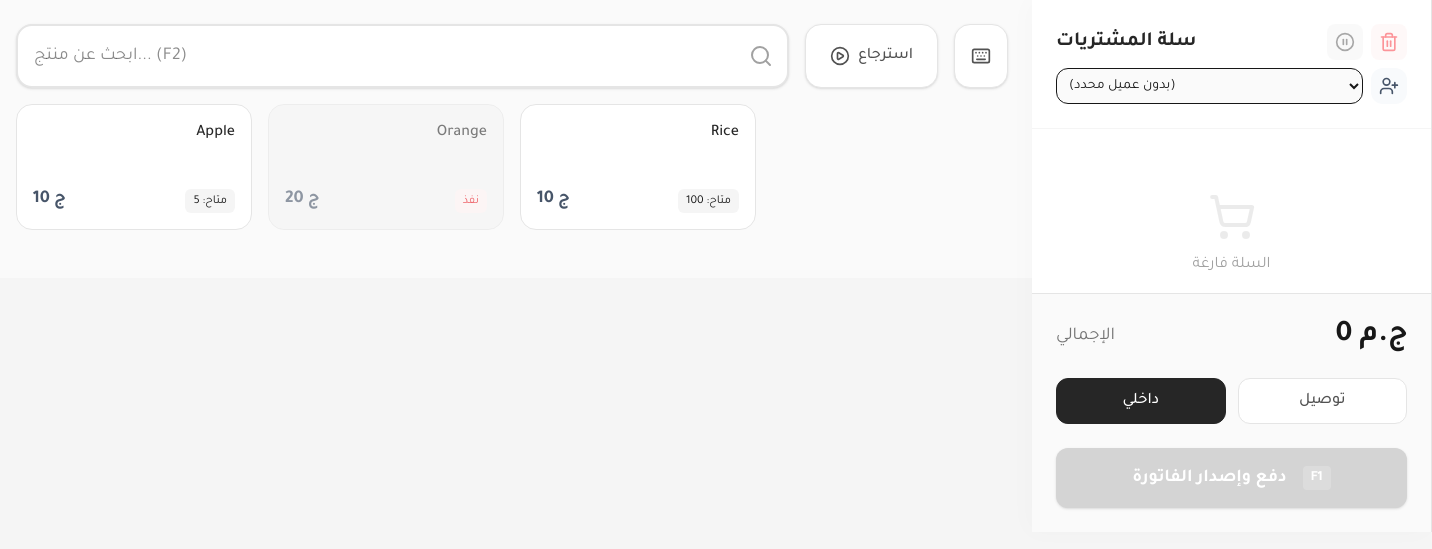
POS cart › increments quantity and updates the line + cart total when clicking the same product again
The width and height of the screenshot is (1432, 549).
Click the button "Apple 10 ج متاح: 5": (134, 167) [16, 104, 252, 230]
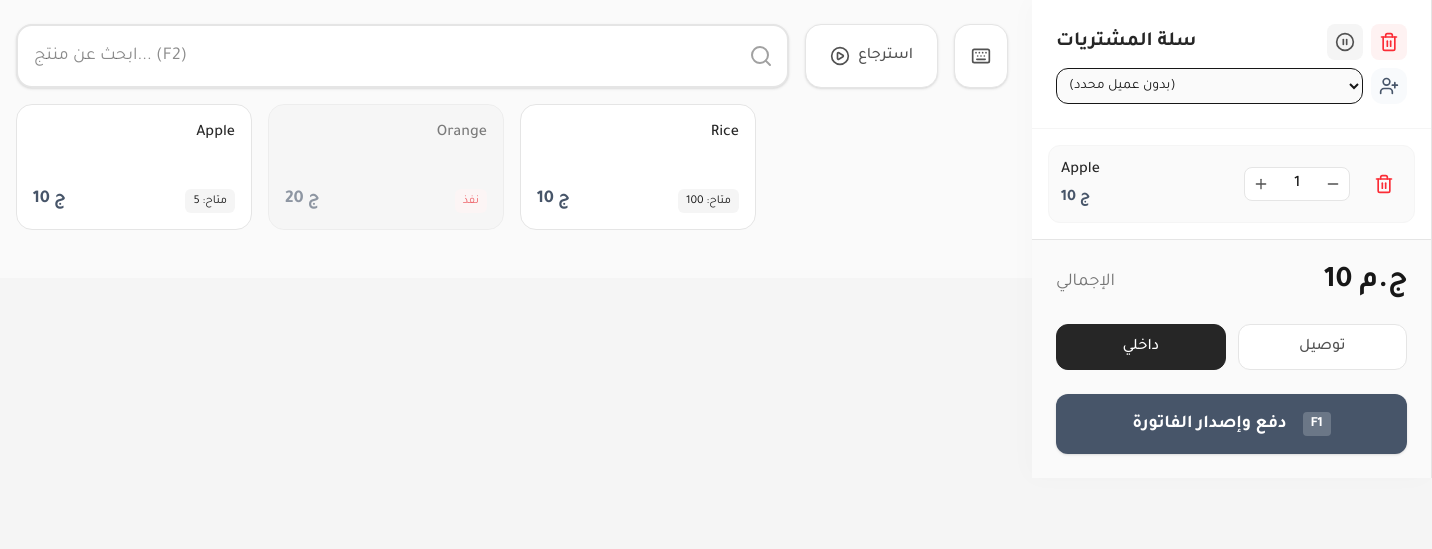
Click the button "Apple 10 ج متاح: 5": (134, 167) [16, 104, 252, 230]
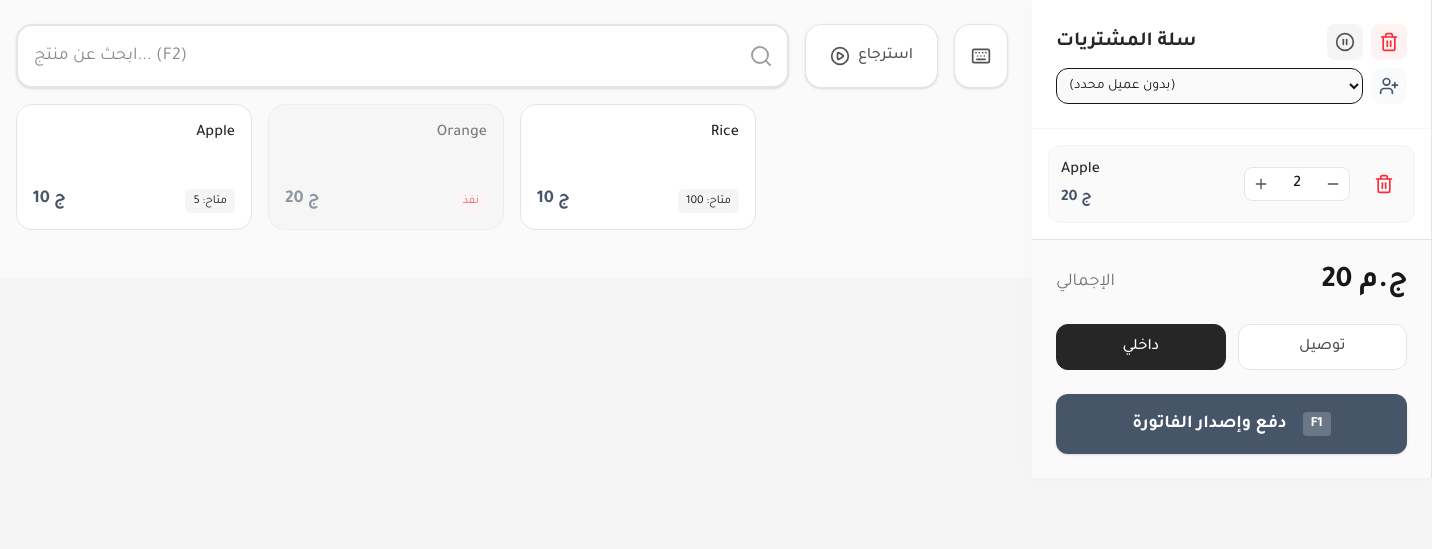
expect the text "20 ج.م" is shown: met, box [1322, 264, 1407, 300]
